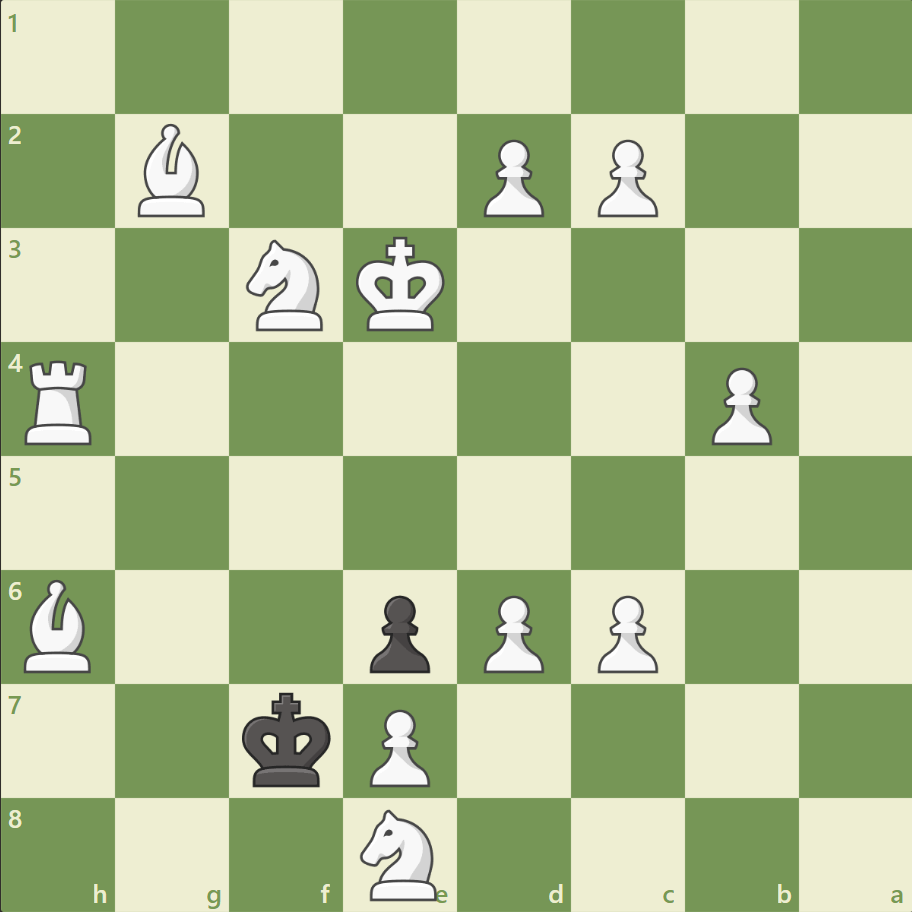B: (17, 574, 101, 676), (131, 120, 215, 222)
K: (351, 231, 451, 339)
N: (351, 802, 449, 904), (238, 234, 335, 337)
P: (474, 586, 549, 677), (701, 359, 776, 450), (474, 132, 549, 223), (361, 700, 435, 791), (588, 586, 662, 677), (588, 132, 662, 223)
R: (19, 352, 102, 449)
k: (238, 685, 338, 793)
p: (361, 586, 435, 677)
